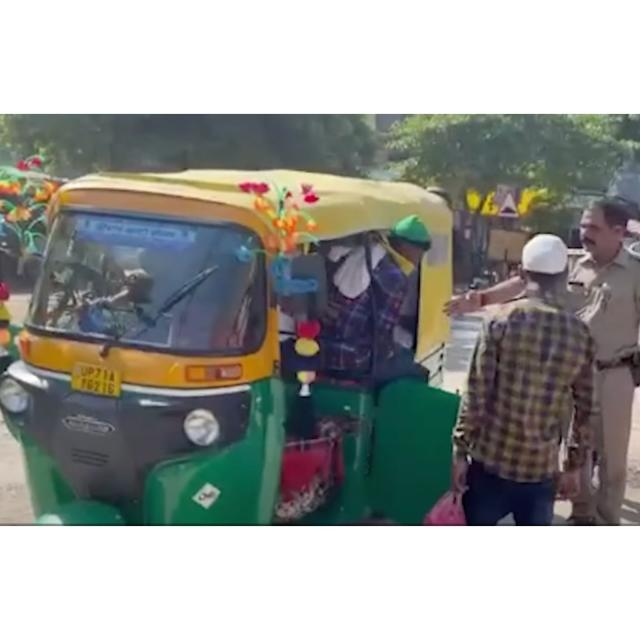autorickshaw: (0, 169, 460, 525)
